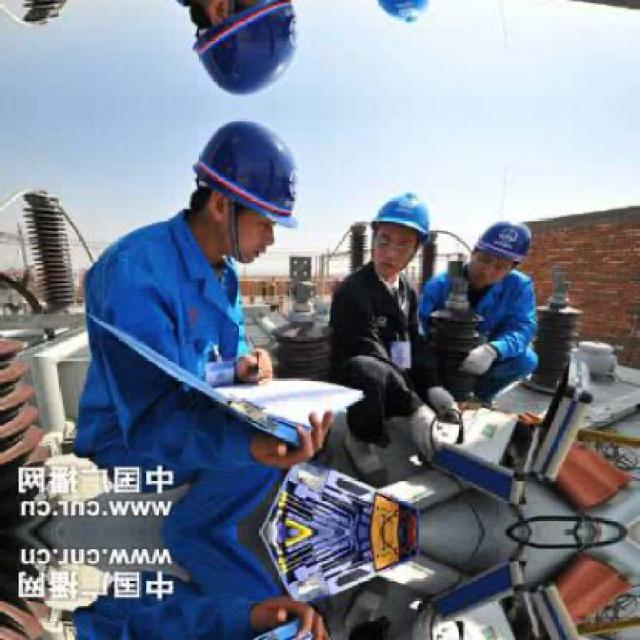helmet: (180, 106, 311, 263), (180, 0, 312, 108), (369, 188, 434, 278), (471, 215, 529, 283), (368, 0, 434, 26)
